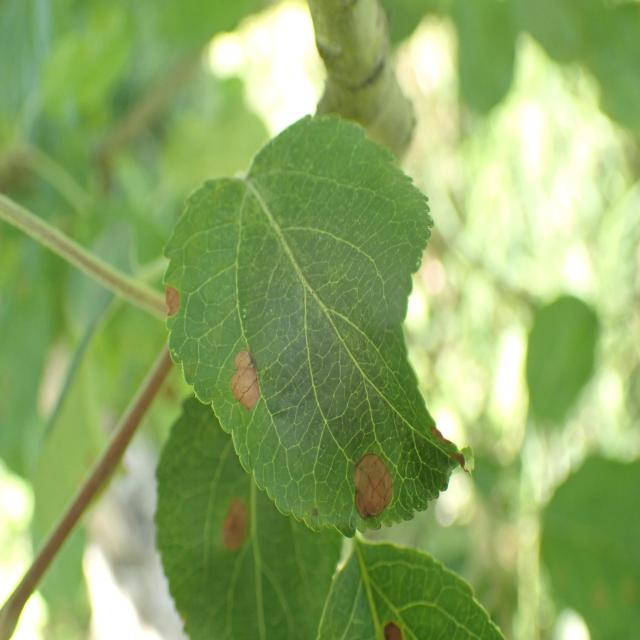Black Rot: (208, 339, 287, 430), (346, 427, 394, 529), (218, 485, 258, 578), (370, 590, 439, 640), (156, 259, 192, 341)
